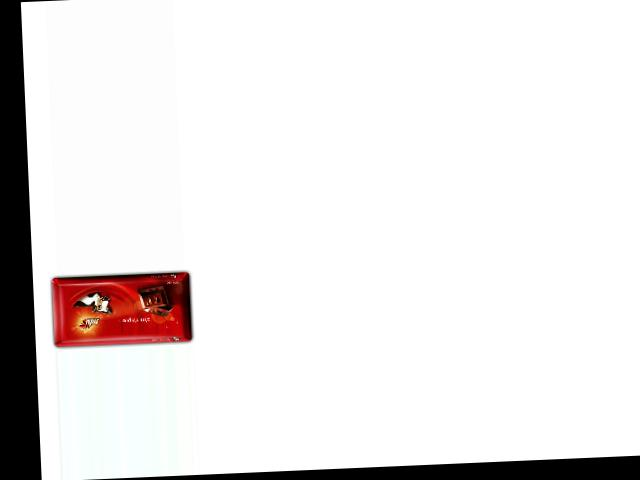chocolate: (43, 266, 194, 347)
